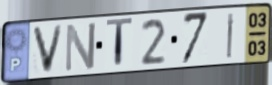2: (139, 17, 167, 67)
7: (180, 10, 211, 68)
I: (225, 11, 237, 60)
N: (63, 20, 98, 75)
T: (105, 16, 135, 71)
V: (30, 23, 66, 76)
